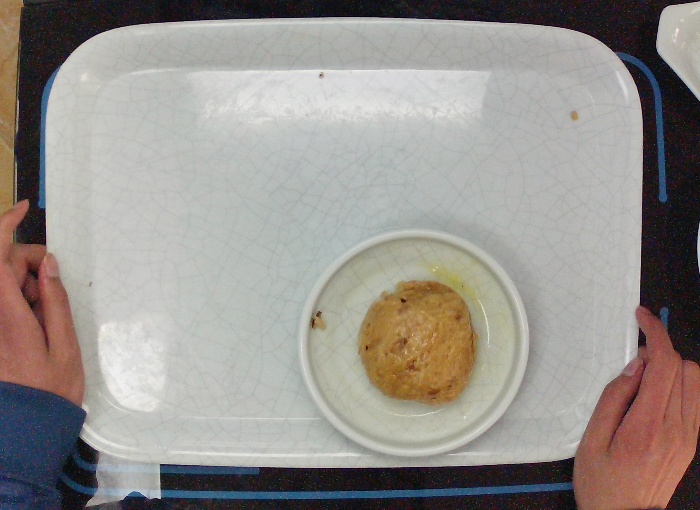JYsf-Xiao_Yuan_Pan: (296, 223, 534, 461)
